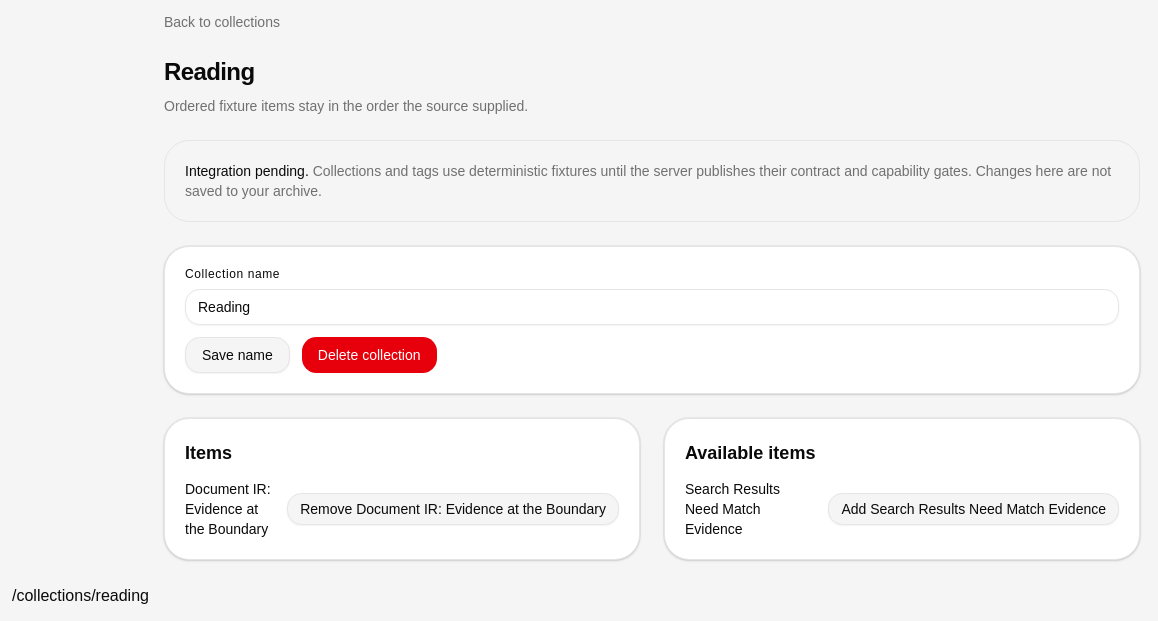
Scenario: CollectionsPage › renames a collection
The image size is (1158, 621).
Replace the text in the field labelled "Collection name" with "Reference": (652, 307) left=185, top=289, right=1119, bottom=325
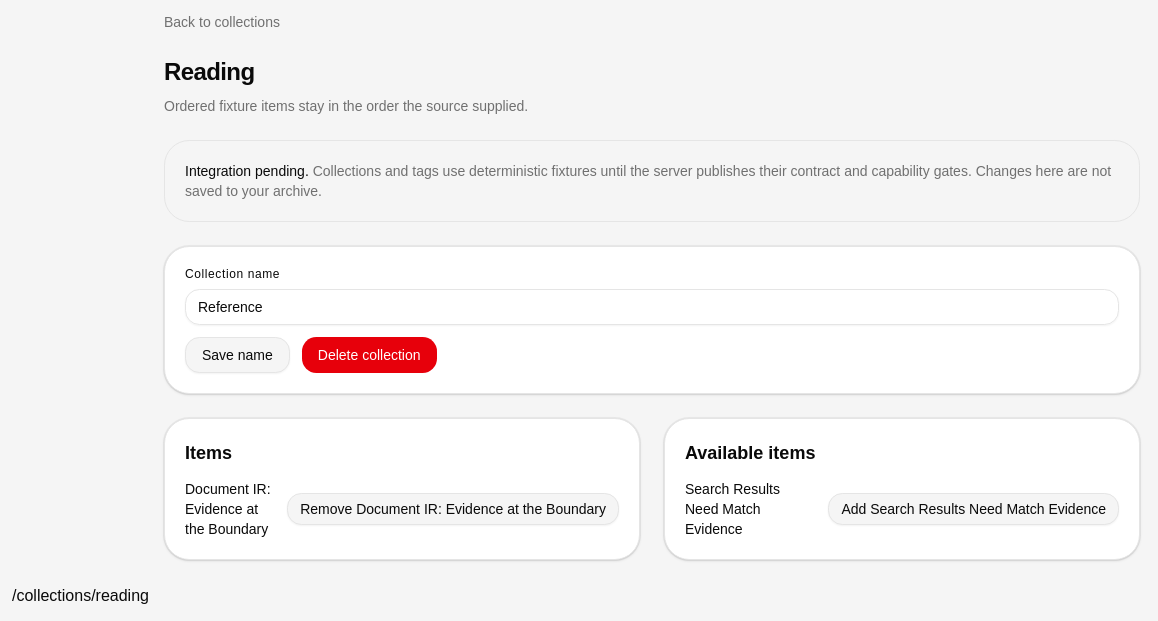
Click the button "Save name": (237, 355) left=185, top=337, right=290, bottom=373
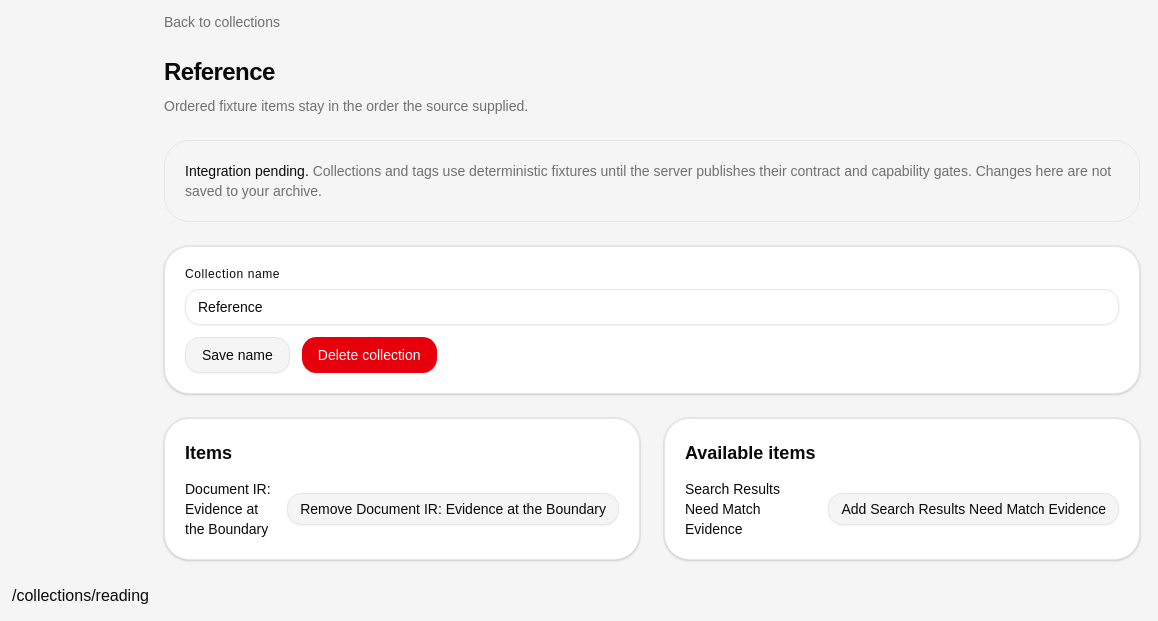
Now the heading "Reference" is shown, box left=164, top=58, right=275, bottom=85
